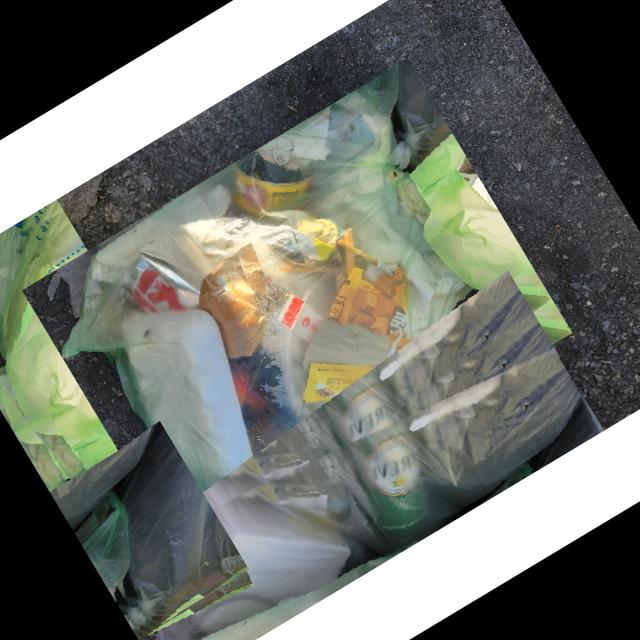general_trashbag: (62, 63, 473, 530), (0, 208, 186, 470)
other_trashbag: (127, 337, 575, 640), (116, 423, 241, 631)
